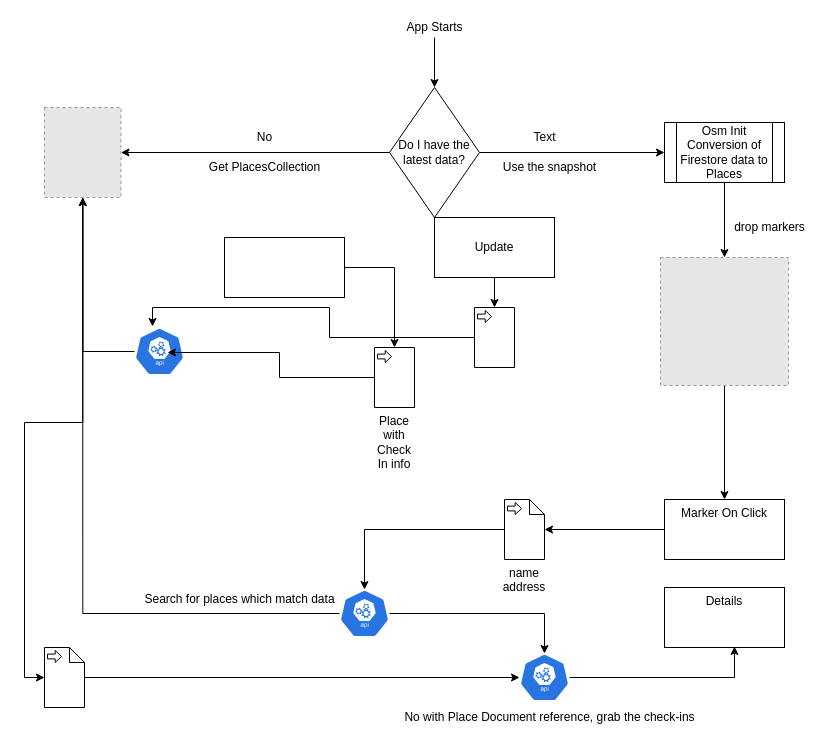
Image size: 832x745. Some labels were removed from this diagram. Grey dashed boxes stand in for pictures. The centre of each missing label's shape, as x and y in pixels:
"Place" goes at point (64, 677).
"Place with new Check in info" goes at point (494, 337).
"Save" goes at point (284, 267).
